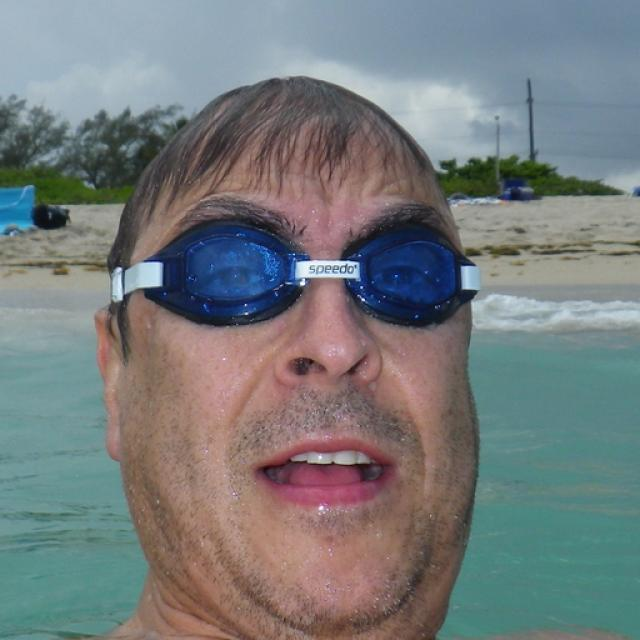disgust: (123, 141, 477, 630)
